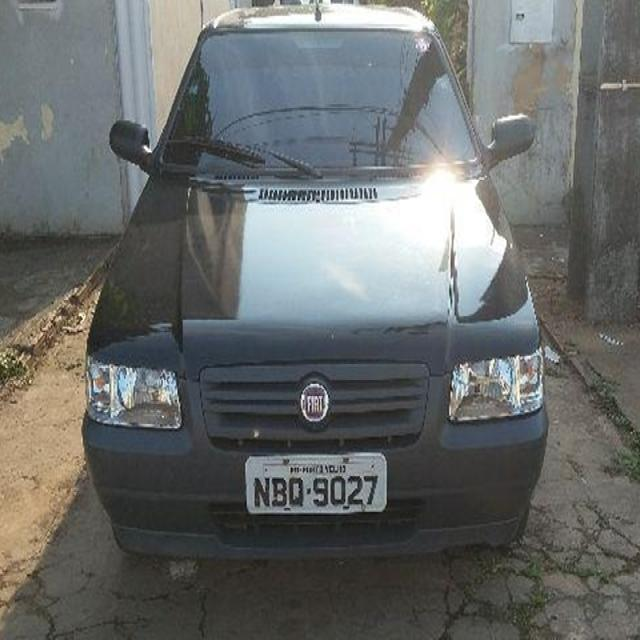Placa: (242, 448, 392, 516)
